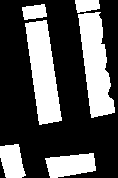parkingspot: (78, 12, 114, 117), (25, 20, 61, 124), (45, 153, 95, 178), (0, 144, 25, 178), (22, 4, 46, 19), (75, 0, 99, 12)
